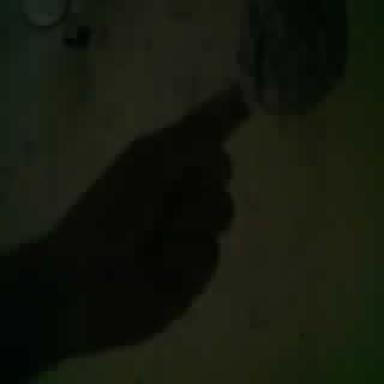paper: (238, 0, 346, 114)
